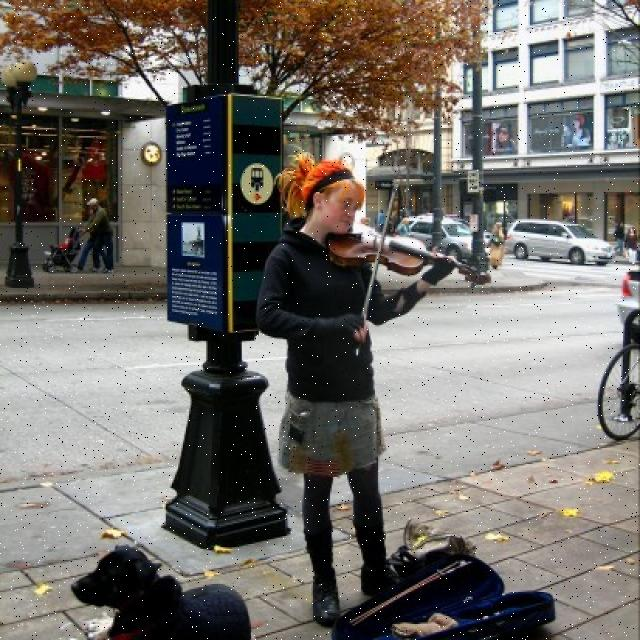violin: (324, 218, 488, 287)
